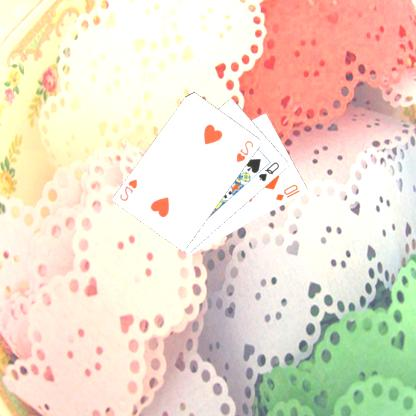10D: (275, 181, 303, 202)
2H: (235, 138, 257, 164), (119, 176, 140, 203)
QS: (257, 159, 283, 183)
